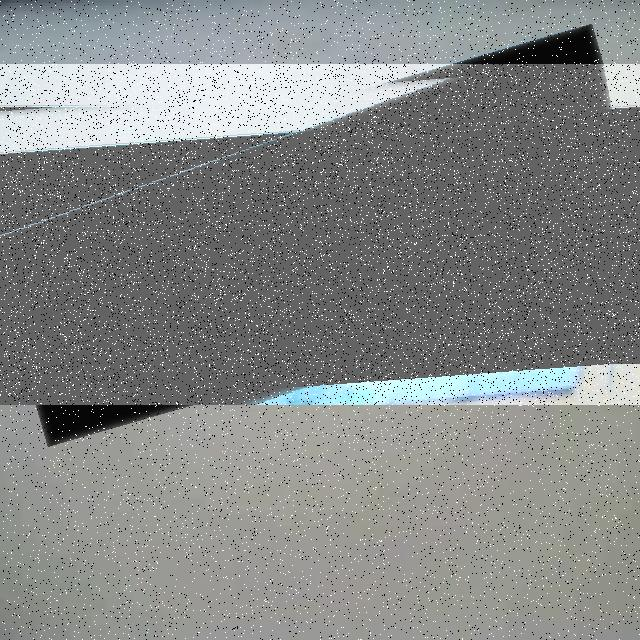dua puluh ribu rupiah: (0, 64, 640, 405)
